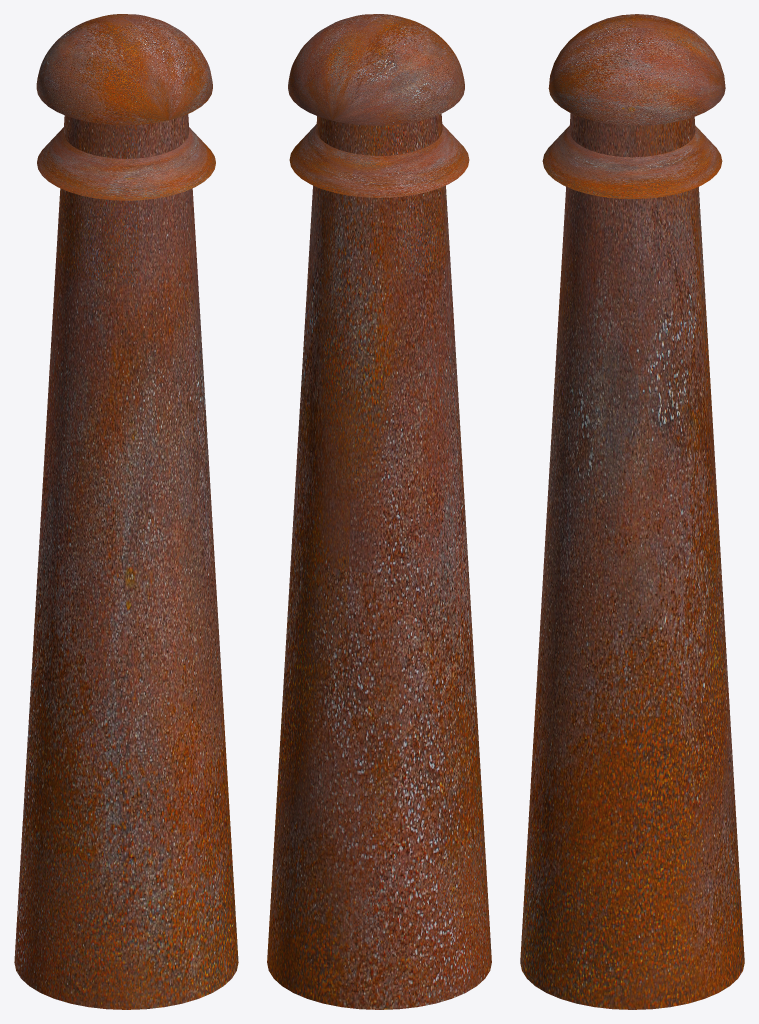
File: tower-3.gltf
The picture shows the model from 3 angles, left to right: view 1: azimuth 30°, elevation 25°; view 2: azimuth 150°, elevation 25°; view 3: azimuth 270°, elevation 25°; orthographic projection.
Bounding box in the file's own units: 9.19 × 42.39 × 9.19.
Materials: 3 (3 with a texture image).
